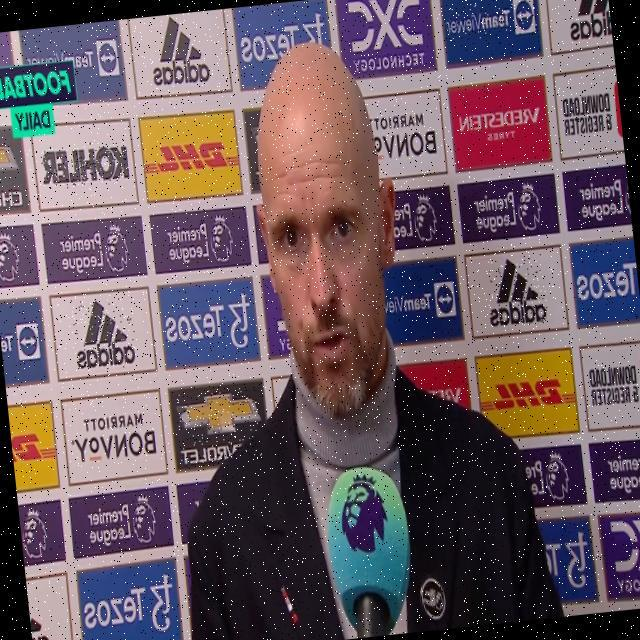Adidas: (71, 294, 138, 372), (146, 12, 212, 90), (483, 254, 549, 329)
Chevrolet: (174, 386, 262, 466)
Kohler: (40, 138, 131, 190)
TeamViewer: (443, 0, 536, 41)
